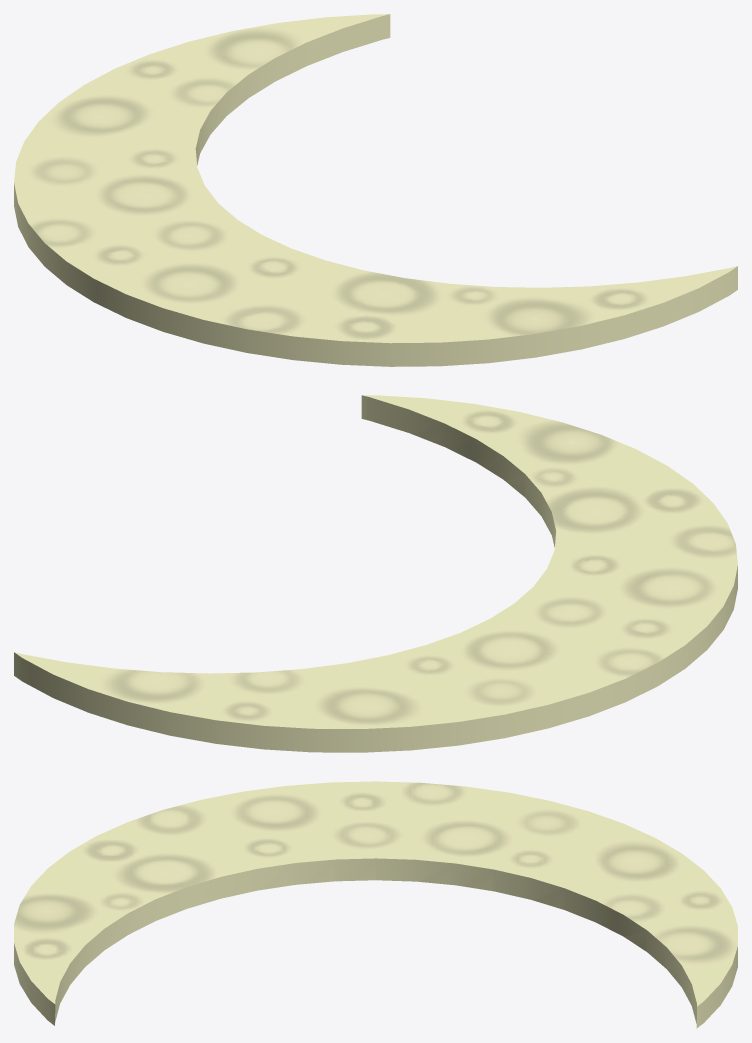
The model's file is moon_obj.fbx.
3 views of the same model, one above another, from view 1: azimuth 30°, elevation 25°; view 2: azimuth 150°, elevation 25°; view 3: azimuth 270°, elevation 25° (orthographic). The views are drawn at different scales.
Visible parts, largest first — view 1: pCylinder2; view 2: pCylinder2; view 3: pCylinder2.
Boxes of the visible parts, x1=… form: pCylinder2: x1=14, y1=14, x2=737, y2=366; pCylinder2: x1=14, y1=395, x2=737, y2=752; pCylinder2: x1=14, y1=781, x2=737, y2=1028.
Bounding box in the file's own units: 21.85 × 1.11 × 29.82.
